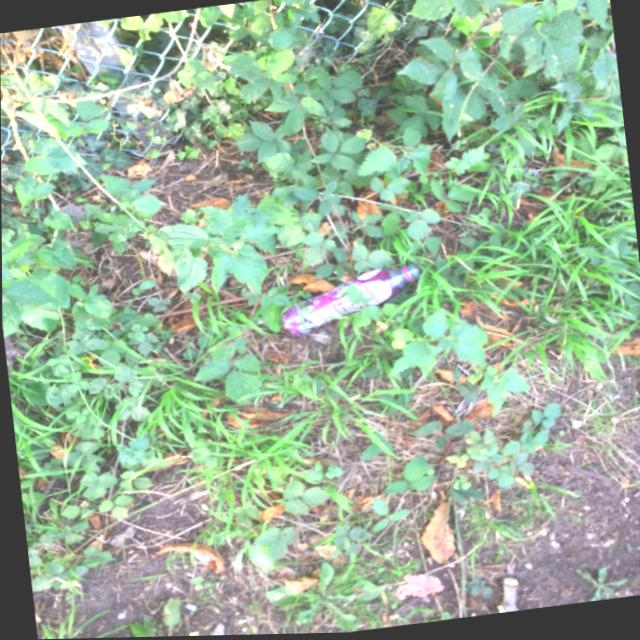Plastic: (268, 257, 433, 346)
